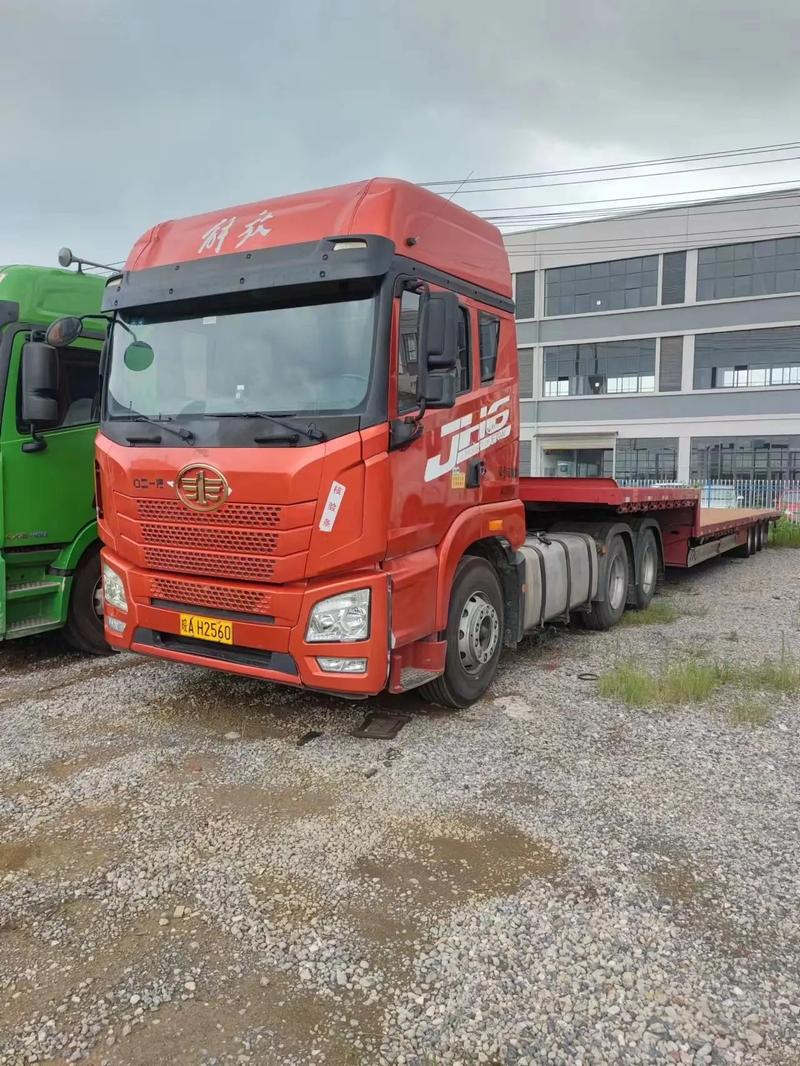卡车: (86, 194, 781, 709)
